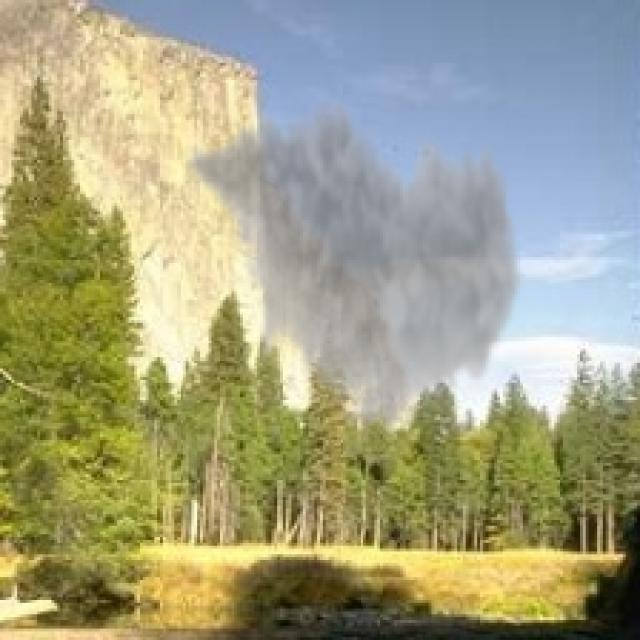Smoke: (183, 88, 526, 443)
